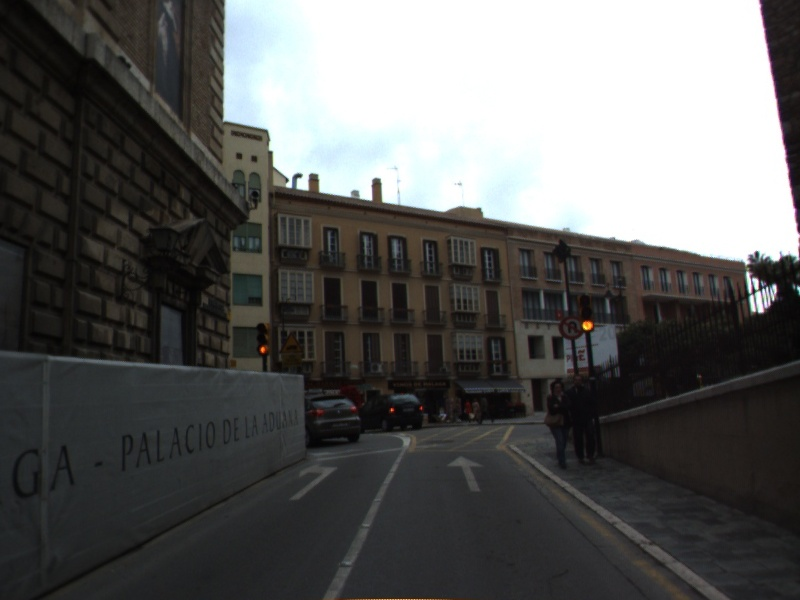LEFT: (286, 461, 342, 503)
STRAIGHT: (444, 453, 488, 494)
